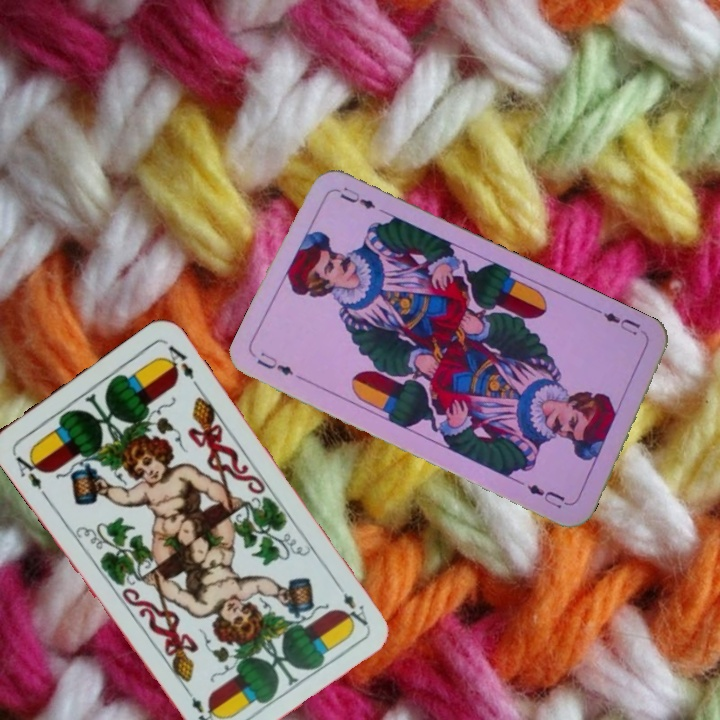EA: (330, 577, 371, 629), (12, 447, 50, 500)
EU: (252, 348, 308, 384), (595, 306, 650, 340)
